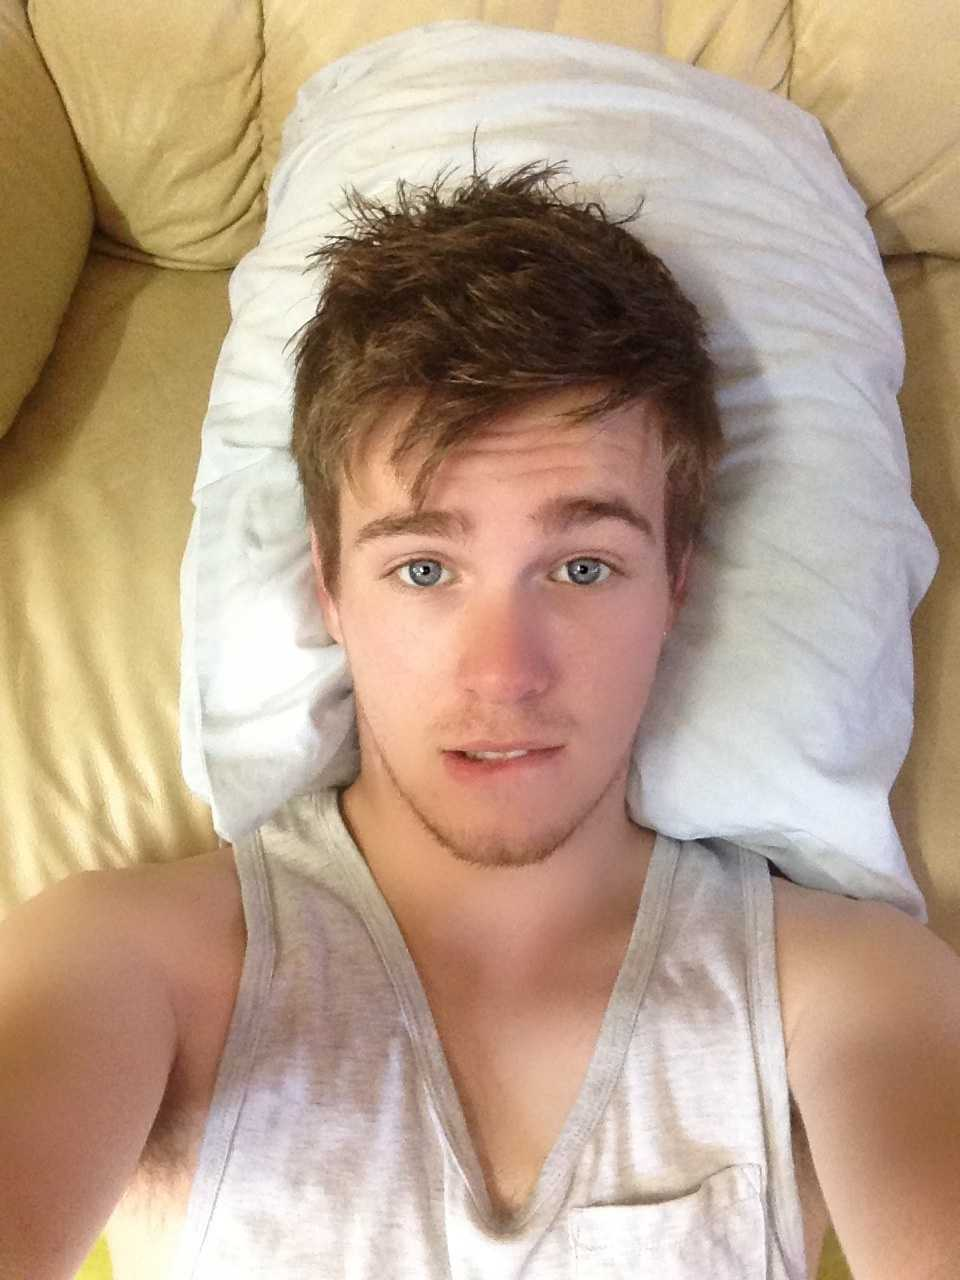without_mask: (350, 510, 638, 798)
